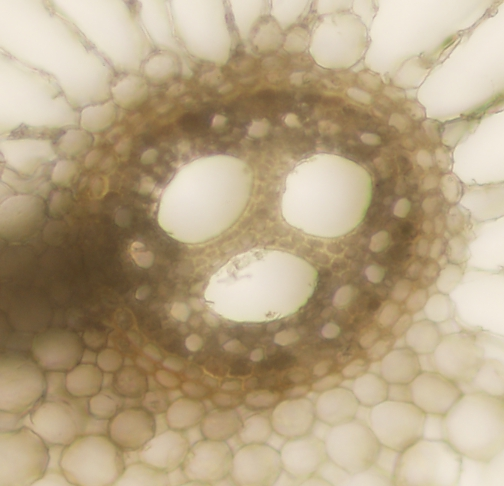lm: (157, 155, 253, 244), (205, 248, 319, 321), (281, 153, 374, 237)
